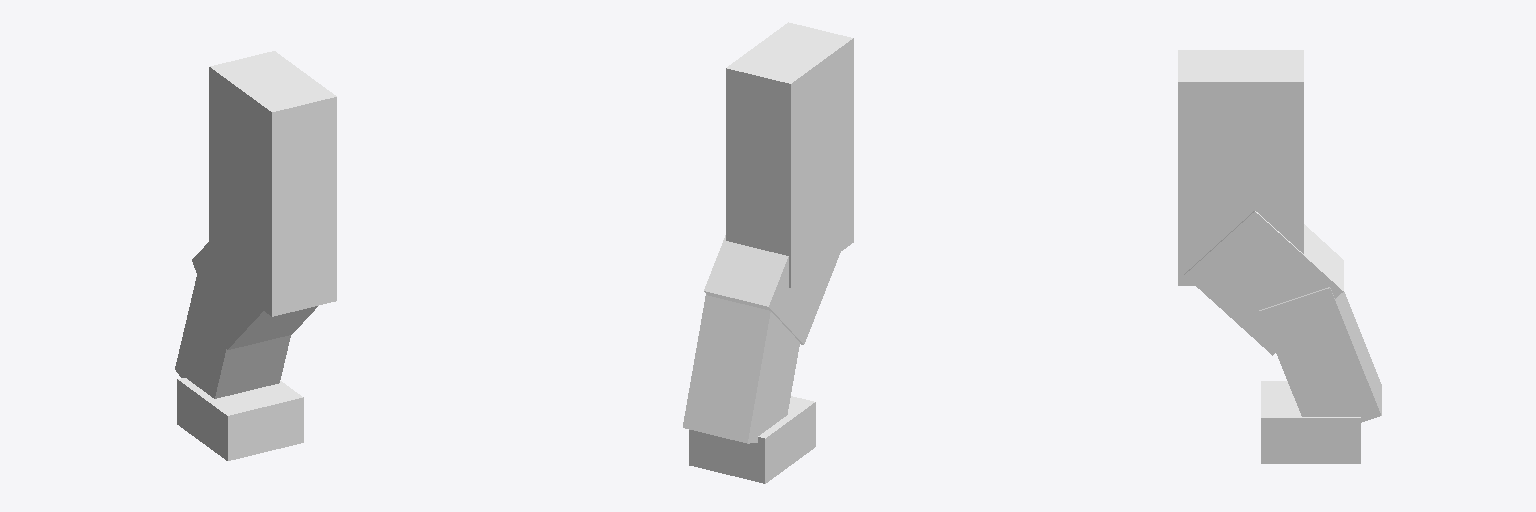
The model's file is lion_hind_right_leg.obj.
The picture shows the model from 3 angles: view 1: azimuth 30°, elevation 25°; view 2: azimuth 150°, elevation 25°; view 3: azimuth 270°, elevation 25°; orthographic projection.
Parts seen in each view (by area): view 1: Element #12, Element #1, Element #11, Element #5; view 2: Element #12, Element #11, Element #5, Element #1; view 3: Element #12, Element #11, Element #5, Element #1.
Part boxes in pixels (bbox=[...]): Element #12: bbox=[209, 51, 336, 316]; Element #1: bbox=[177, 378, 303, 460]; Element #11: bbox=[175, 275, 290, 398]; Element #5: bbox=[192, 242, 317, 349]; Element #12: bbox=[726, 22, 853, 287]; Element #11: bbox=[683, 294, 799, 443]; Element #5: bbox=[704, 235, 840, 344]; Element #1: bbox=[689, 396, 815, 483]; Element #12: bbox=[1178, 50, 1303, 285]; Element #11: bbox=[1259, 287, 1381, 422]; Element #5: bbox=[1184, 211, 1343, 355]; Element #1: bbox=[1261, 381, 1360, 463].
Bounding box in the file's own units: 3.5 × 16.65 × 8.1.